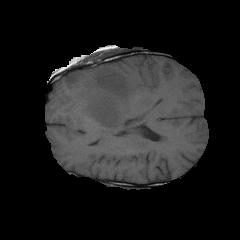glioma: (64, 66, 136, 137)
